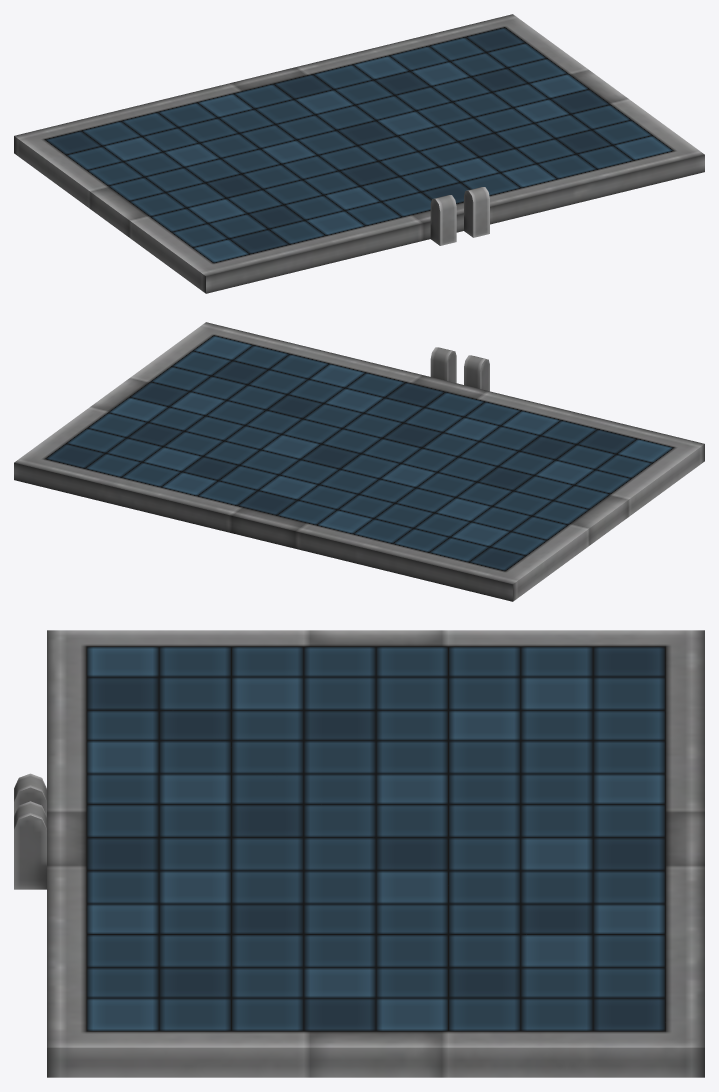
File: grus_solar_srf_3_top.obj
3 views of the same model, one above another, from view 1: azimuth 30°, elevation 25°; view 2: azimuth 150°, elevation 25°; view 3: azimuth 270°, elevation 25° (orthographic). The views are drawn at different scales.
Parts seen in each view (by area): view 1: 1; view 2: 1; view 3: 1.
Boxes of the visible parts, x1,y1,x2,y2 form: 1: (14,14,704,293); 1: (14,322,704,601); 1: (14,630,704,1077).
Bounding box in the file's own units: 0.75 × 0.0625 × 0.525.
Materials: 1 (1 with a texture image).
